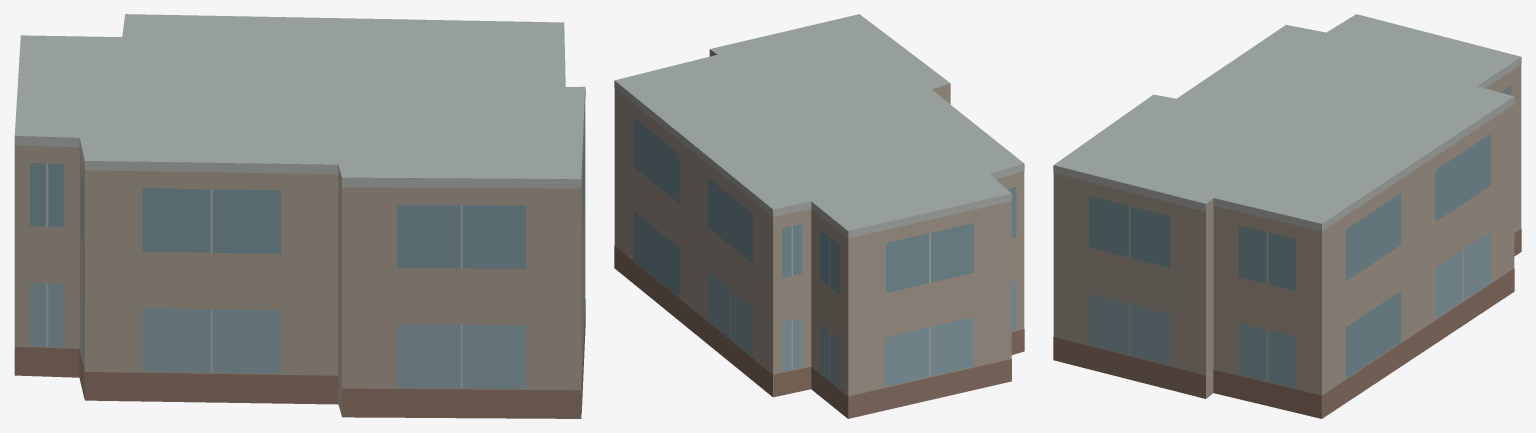
File: survey-upis-32654098.glb
3 renders of one model, left to right at view 1: azimuth 30°, elevation 25°; view 2: azimuth 150°, elevation 25°; view 3: azimuth 270°, elevation 25°, orthographic. The views are drawn at different scales.
Visible parts, largest first — view 1: survey-upis-32654098.tmp; view 2: survey-upis-32654098.tmp; view 3: survey-upis-32654098.tmp.
Part boxes in pixels (left/top/right/bottom): survey-upis-32654098.tmp: left=14, top=14, right=585, bottom=418; survey-upis-32654098.tmp: left=614, top=14, right=1024, bottom=418; survey-upis-32654098.tmp: left=1053, top=14, right=1521, bottom=418.
Size of the model in its own units: 14.08 by 6.1 by 13.27.
